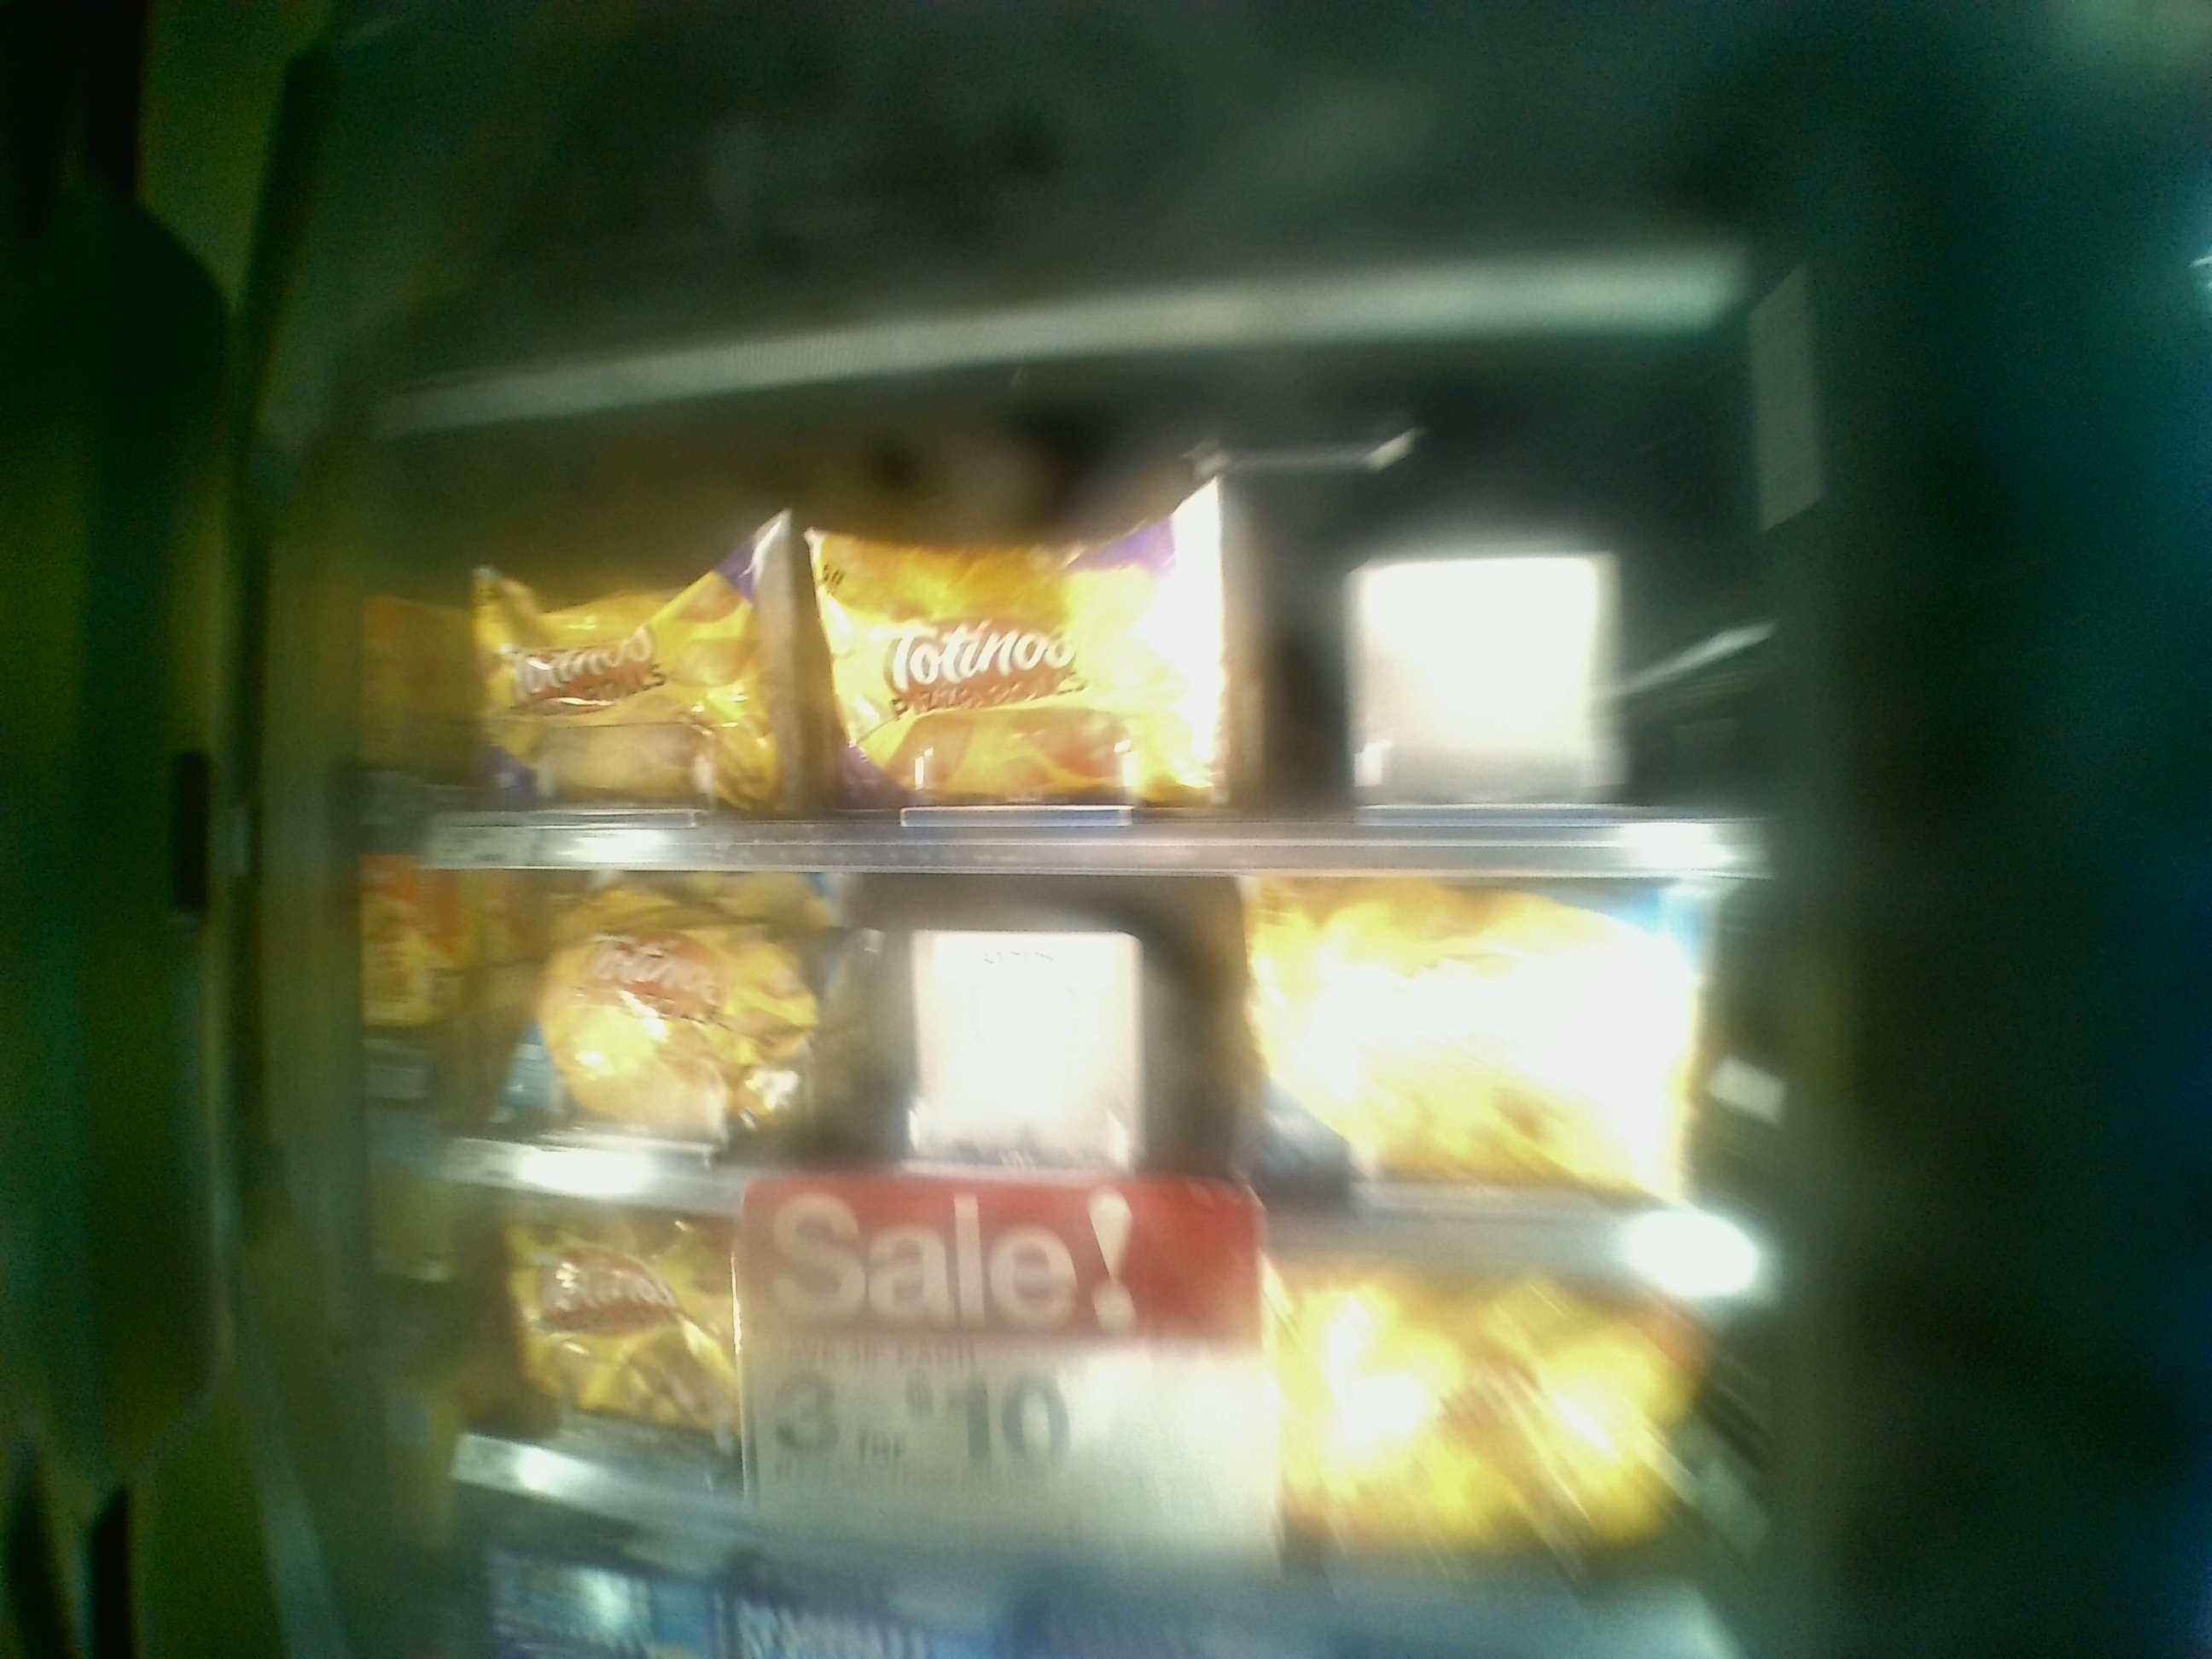shelf: (404, 854, 1770, 1277), (387, 453, 1775, 866)
